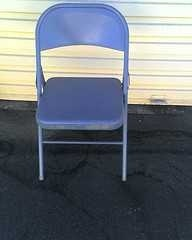obstacle: (36, 3, 127, 180)
